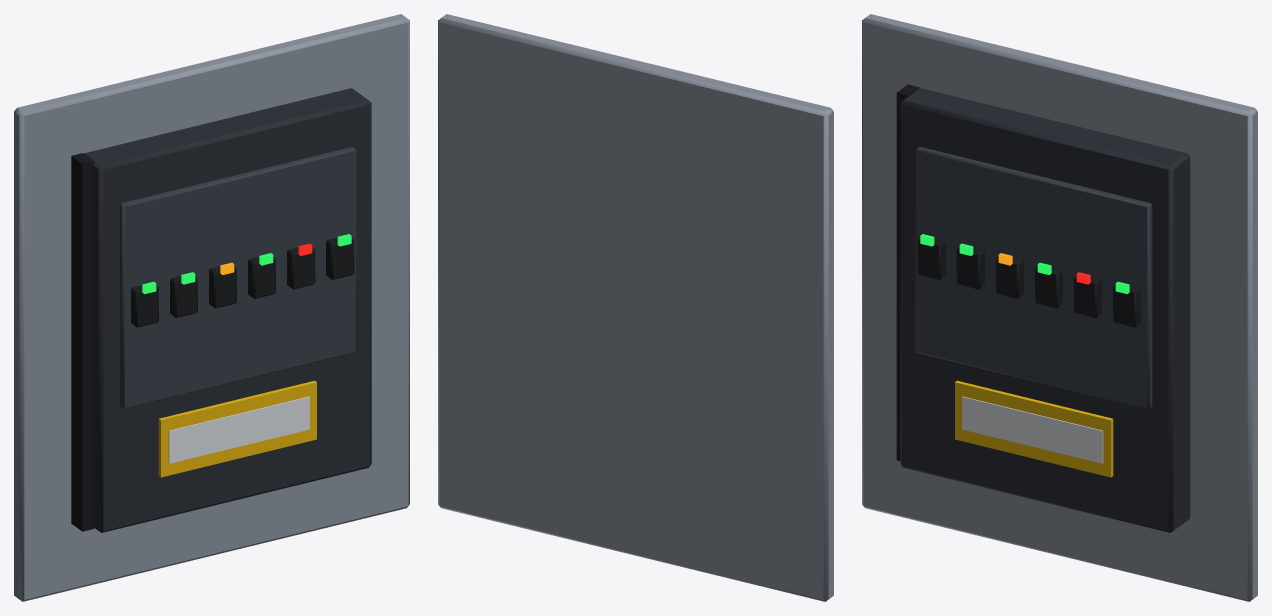
Rendered from wallpanel_fuse_box.glb.
3 views of the same model, side by side, from view 1: azimuth 30°, elevation 25°; view 2: azimuth 150°, elevation 25°; view 3: azimuth 330°, elevation 25° (orthographic).
Parts seen in each view (by area): view 1: wallpanel_fuse_box; view 2: wallpanel_fuse_box; view 3: wallpanel_fuse_box.
Part boxes in pixels (x1,y1,x2,y2): wallpanel_fuse_box: (14,14,409,601); wallpanel_fuse_box: (438,14,833,601); wallpanel_fuse_box: (862,14,1257,601).
Bounding box in the file's own units: 1 × 1.2 × 0.18.
